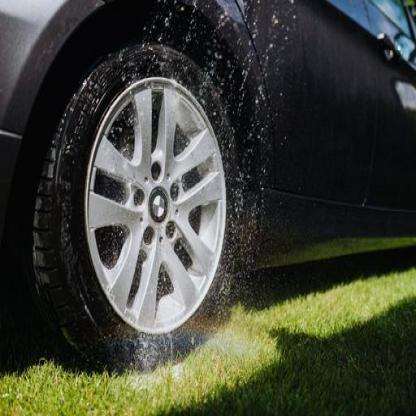Tire: (28, 38, 242, 367)
